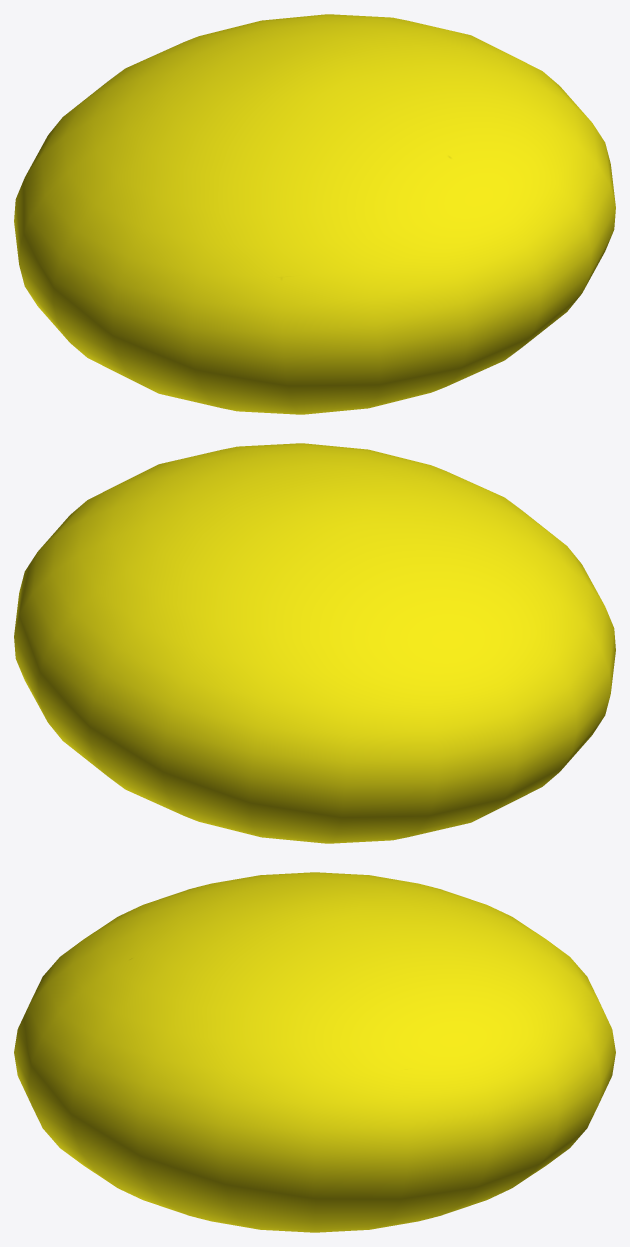
Rendered from LoadLight_Emit.fbx.
The picture shows the model from 3 angles, top to bottom: view 1: azimuth 30°, elevation 25°; view 2: azimuth 150°, elevation 25°; view 3: azimuth 270°, elevation 25°; orthographic projection.
Parts seen in each view (by area): view 1: pSphere1; view 2: pSphere1; view 3: pSphere1.
Boxes of the visible parts, x1,y1,x2,y2 form: pSphere1: (14,14,615,414); pSphere1: (14,443,615,843); pSphere1: (14,872,615,1232).
Size of the model in its own units: 0.9958 by 0.5317 by 1.
1 material, 1 textured.
